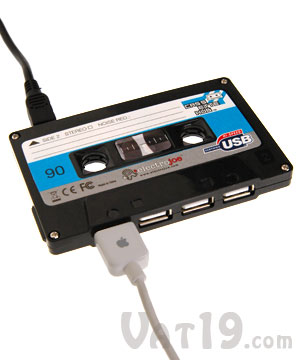Nonrec_Other: (3, 59, 296, 250)
